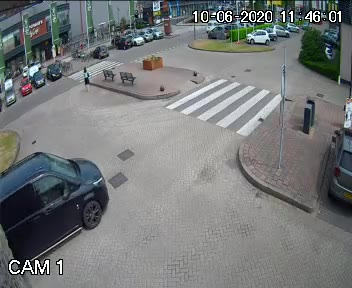car: (0, 128, 114, 264)
